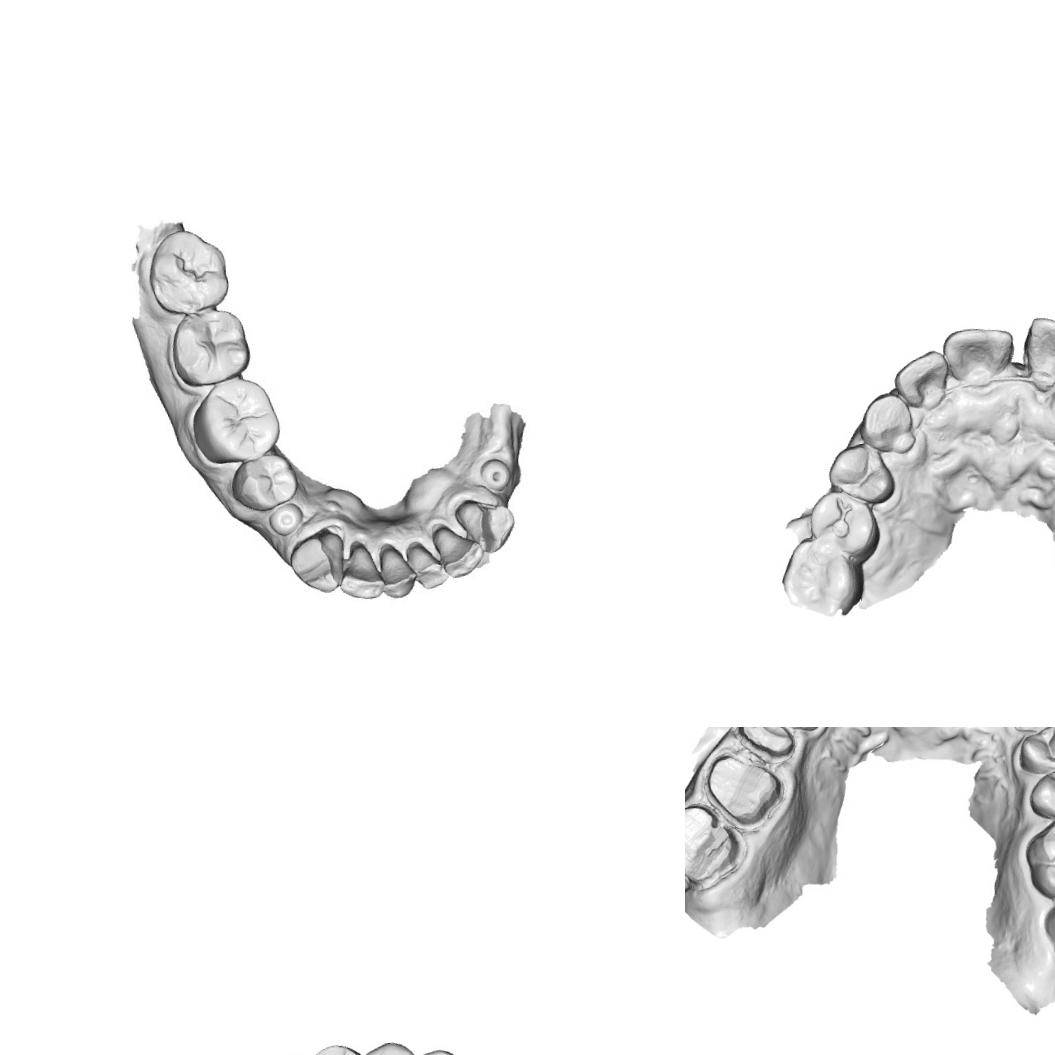canine: (855, 390, 920, 460), (289, 529, 348, 594), (457, 494, 515, 552), (309, 1040, 370, 1055)
crown: (697, 744, 789, 835), (685, 798, 751, 895), (731, 727, 798, 768)
implant: (260, 501, 306, 539), (476, 451, 512, 494)
incisor: (939, 320, 1019, 392), (888, 346, 952, 416), (1016, 309, 1055, 397), (338, 539, 389, 601), (372, 541, 418, 602), (433, 524, 483, 578), (405, 540, 448, 590)
molar: (188, 372, 288, 467), (140, 226, 232, 324), (777, 528, 868, 621), (164, 302, 260, 387), (1021, 810, 1055, 901)
premolar: (801, 485, 885, 570), (820, 438, 900, 512), (228, 448, 299, 516), (1013, 727, 1055, 776), (1025, 760, 1055, 824), (358, 1038, 421, 1055)
